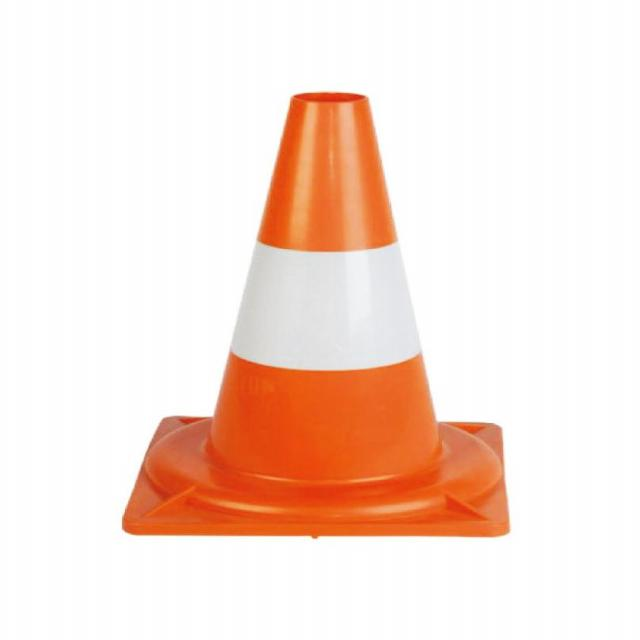cone: (125, 89, 530, 536)
